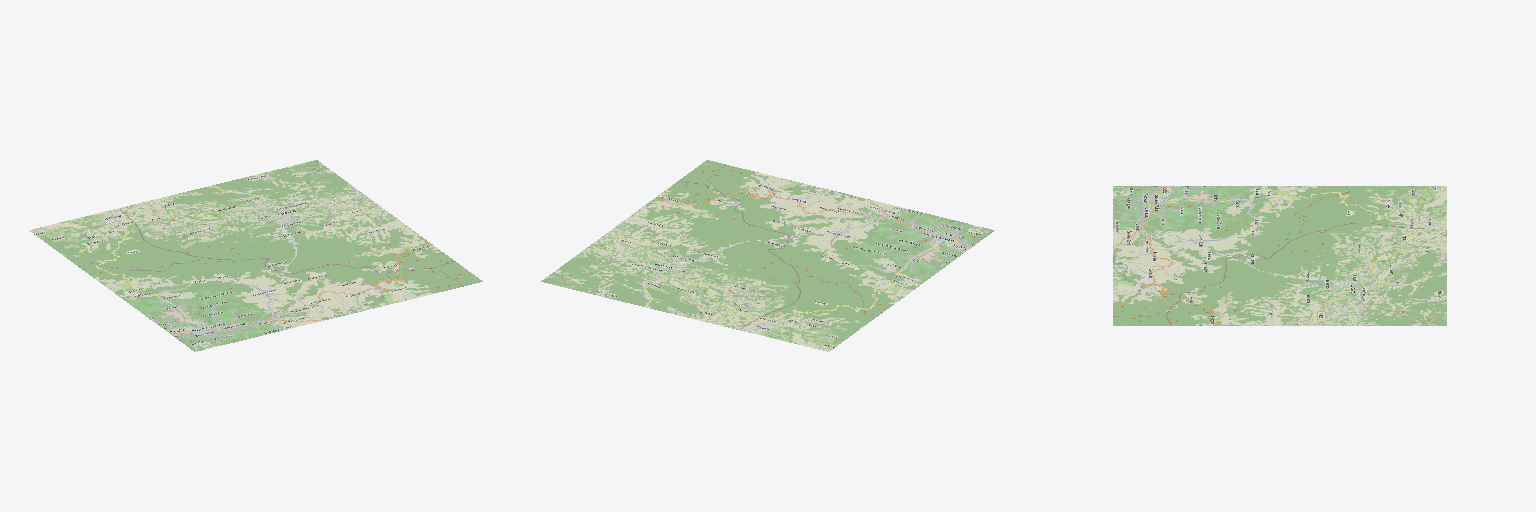
3 renders of one model, left to right at view 1: azimuth 30°, elevation 25°; view 2: azimuth 150°, elevation 25°; view 3: azimuth 270°, elevation 25°, orthographic.
Parts seen in each view (by area): view 1: Plane001; view 2: Plane001; view 3: Plane001.
Part boxes in pixels (left/top/right/bottom): Plane001: left=29, top=160, right=482, bottom=351; Plane001: left=541, top=160, right=994, bottom=351; Plane001: left=1113, top=186, right=1446, bottom=325.
Bounding box in the file's own units: 78.74 × 0 × 78.74.
1 materials, 1 textured.